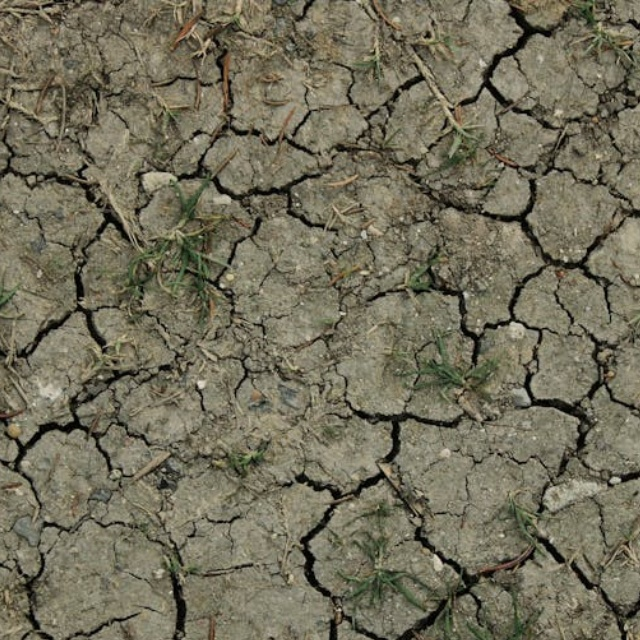网状裂隙: (0, 80, 558, 640)
